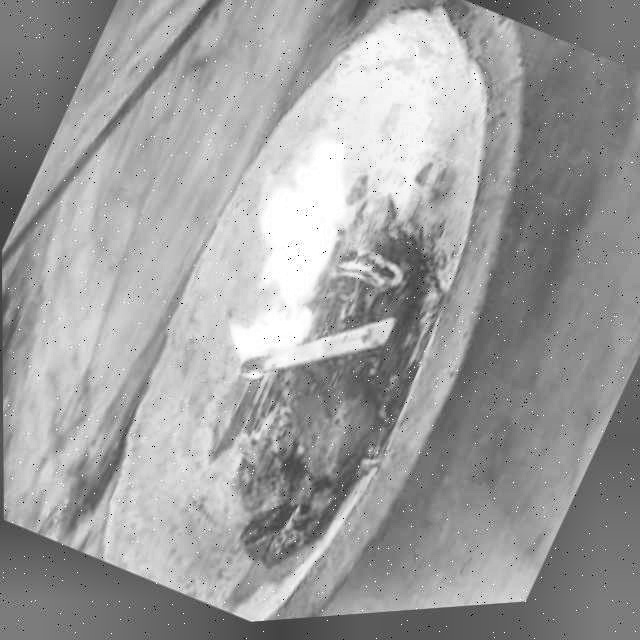Fire: (165, 109, 393, 415)
